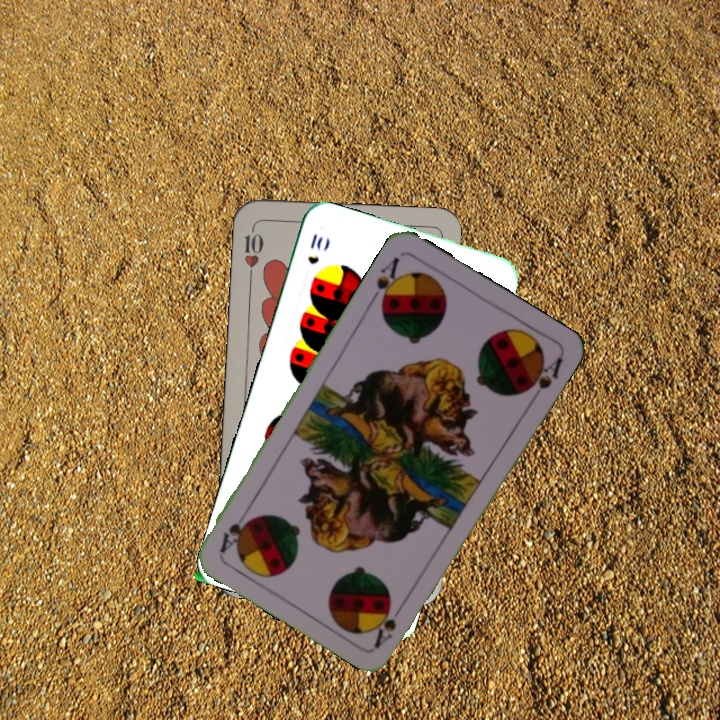H10: (240, 223, 266, 282)
S10: (303, 229, 326, 267)
SA: (366, 253, 406, 311), (370, 597, 409, 650)
